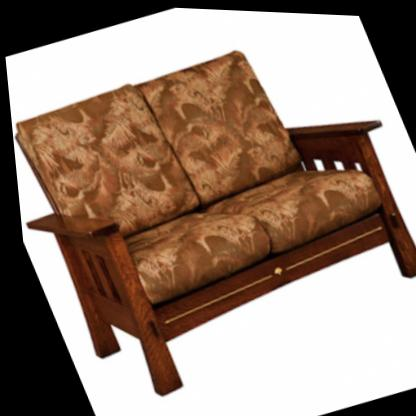Sofa: (0, 6, 416, 416)
